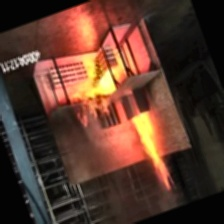fire: (115, 94, 189, 206), (55, 40, 139, 124)
